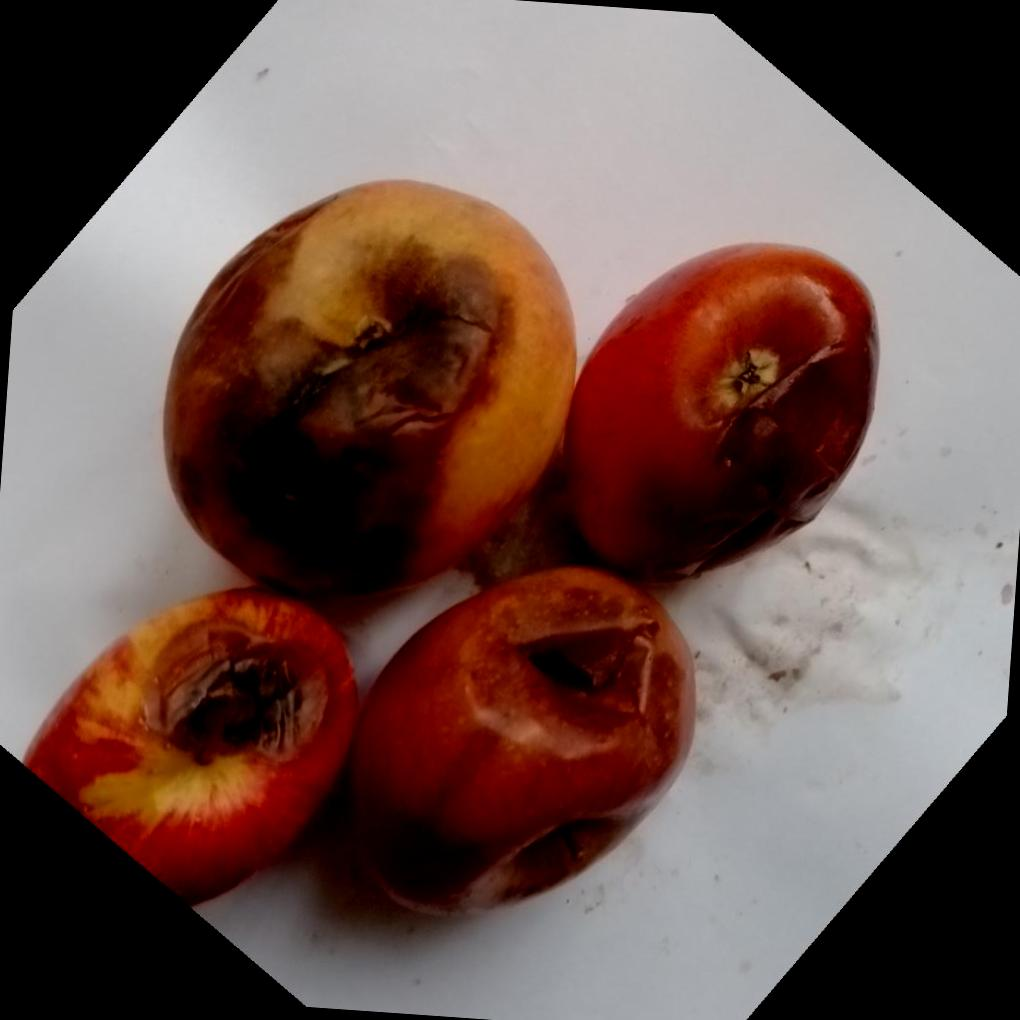FreshOrange: (27, 179, 853, 843)
